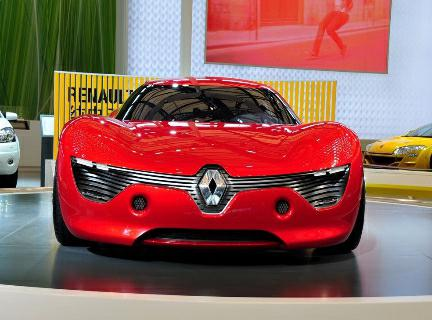雷诺-DeZir: (47, 74, 375, 263)
